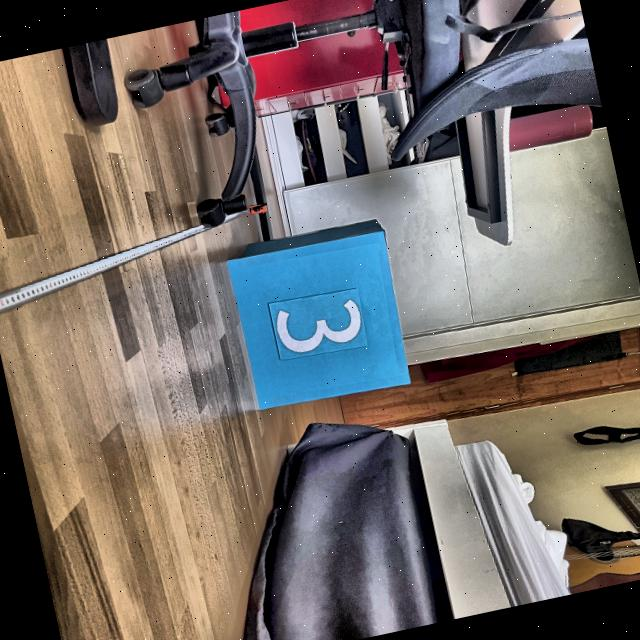blue box: (222, 213, 414, 418)
three: (270, 290, 367, 360)
